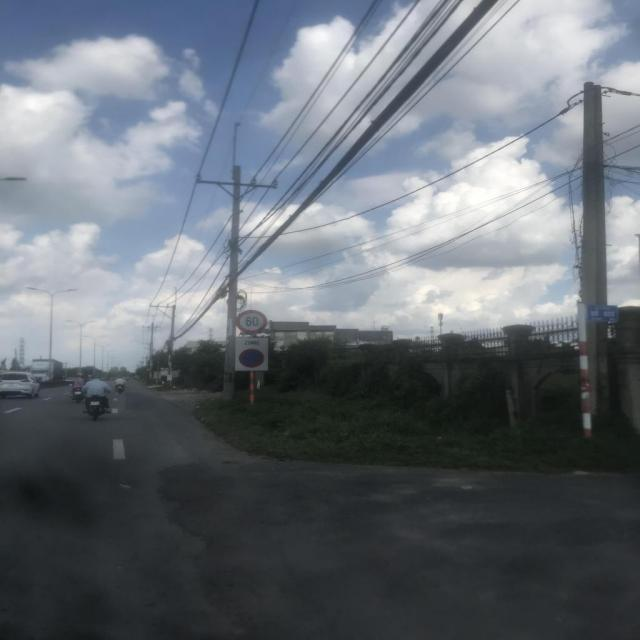cam_do_xe: (238, 348, 265, 368)
toc_do_toi_da_60: (234, 310, 268, 335)
